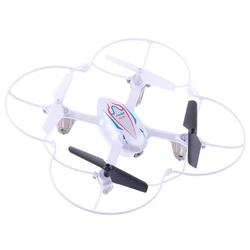drone: (3, 37, 247, 217)
